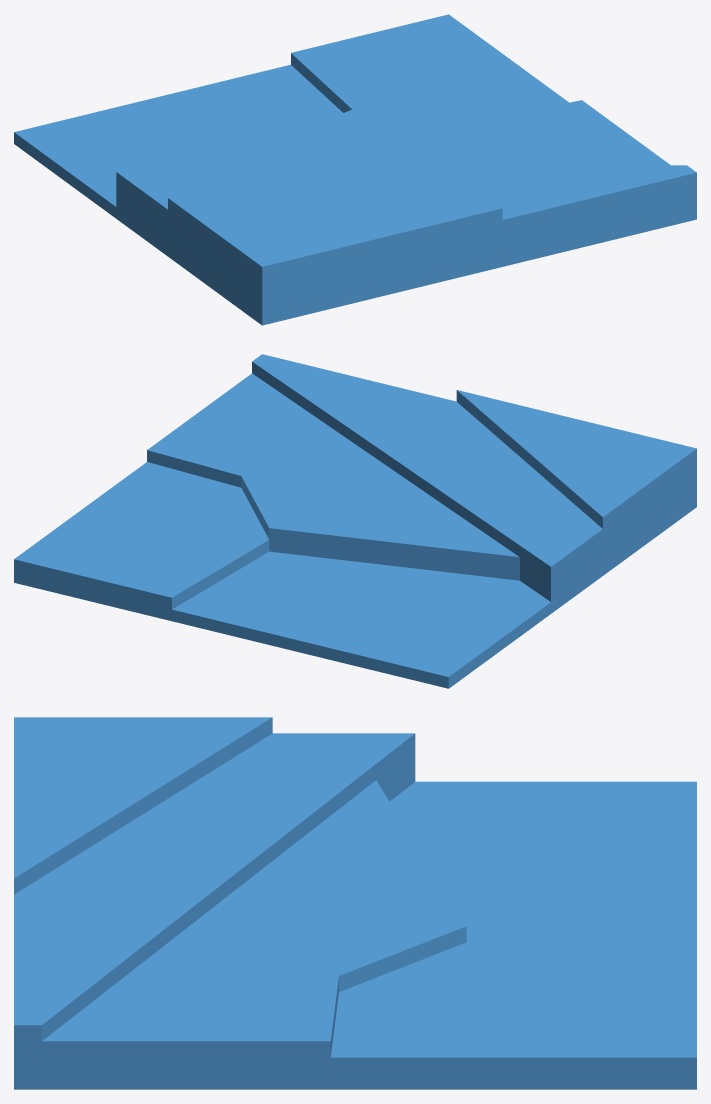
The model's file is New Level 5.fbx.
The picture shows the model from 3 angles, top to bottom: view 1: azimuth 30°, elevation 25°; view 2: azimuth 150°, elevation 25°; view 3: azimuth 270°, elevation 25°; orthographic projection. The views are drawn at different scales.
Parts seen in each view (by area): view 1: New_Level5_1-5, New_Level5_2-5, New_Level5_5-5, New_Level5_3-5, New_Level5_4-5; view 2: New_Level5_3-5, New_Level5_5-5, New_Level5_2-5, New_Level5_4-5, New_Level5_1-5; view 3: New_Level5_3-5, New_Level5_2-5, New_Level5_4-5, New_Level5_5-5, New_Level5_1-5.
Part boxes in pixels (<box>): New_Level5_1-5: <box>168,198,502,325</box>; New_Level5_2-5: <box>116,165,696,266</box>; New_Level5_5-5: <box>14,64,342,218</box>; New_Level5_3-5: <box>205,100,670,170</box>; New_Level5_4-5: <box>291,14,568,121</box>; New_Level5_3-5: <box>147,373,519,580</box>; New_Level5_5-5: <box>172,551,550,688</box>; New_Level5_2-5: <box>252,354,602,613</box>; New_Level5_4-5: <box>14,462,269,621</box>; New_Level5_1-5: <box>456,390,696,575</box>; New_Level5_3-5: <box>42,780,466,1089</box>; New_Level5_2-5: <box>14,733,415,1089</box>; New_Level5_4-5: <box>330,942,696,1089</box>; New_Level5_5-5: <box>390,781,696,951</box>; New_Level5_1-5: <box>14,717,272,894</box>.
Size of the model in its own units: 19390 by 19172 by 2500.
